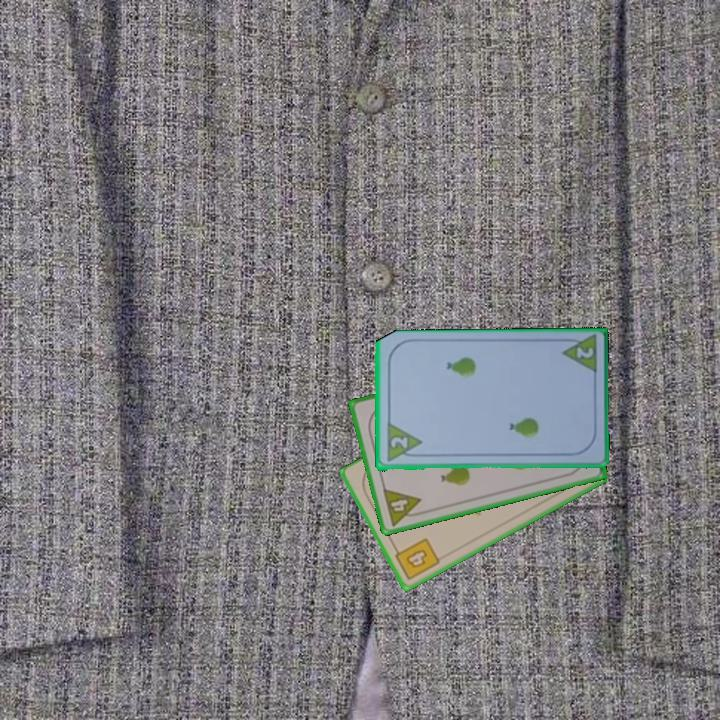2p: (383, 421, 424, 465), (573, 344, 596, 361)
4b: (390, 535, 443, 583)
4p: (379, 485, 427, 529)
